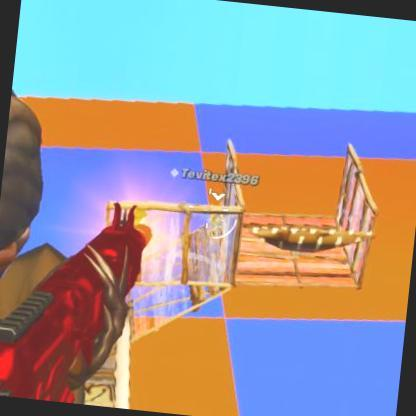person: (208, 209, 224, 237)
